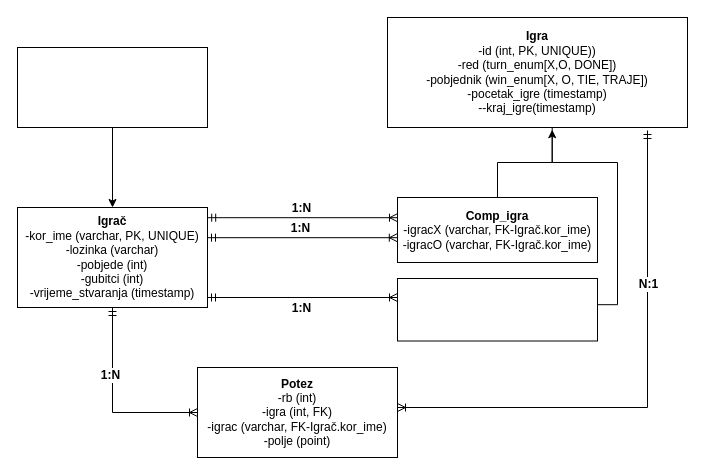
The diagram is 705 pixels wide and 475 high, and some of its shapes have lost their labels. Here are the shapes that lost their labels. From the top down, the centre of each, then its label:
At (112,87): "Admin -admin_level (int) -permissions (text) -posljednji_login (timestamp)".
At (497,309): "Local_igra -Host (varchar, FK-Igrač.kor_ime)".
